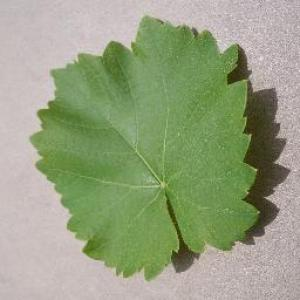Folha: (28, 14, 261, 281)
